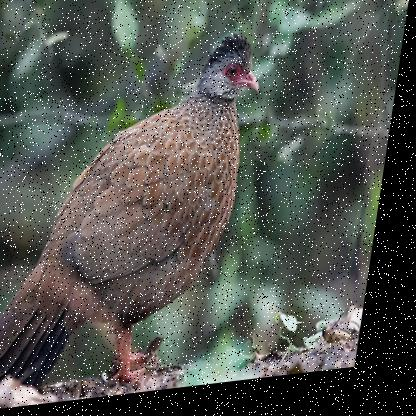Burung: (0, 38, 272, 400)
